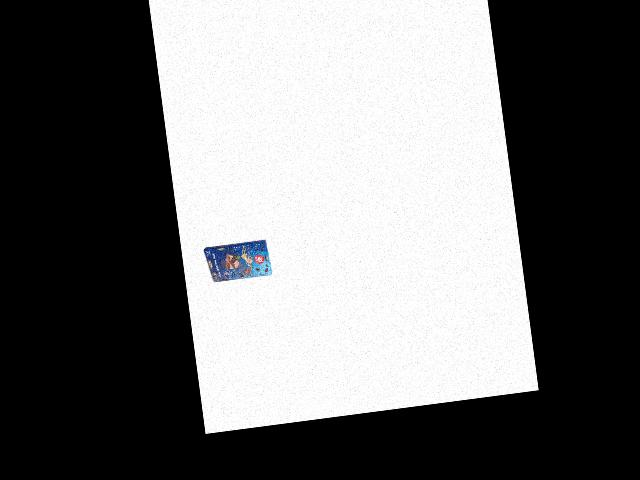chocolate: (202, 234, 274, 288)
